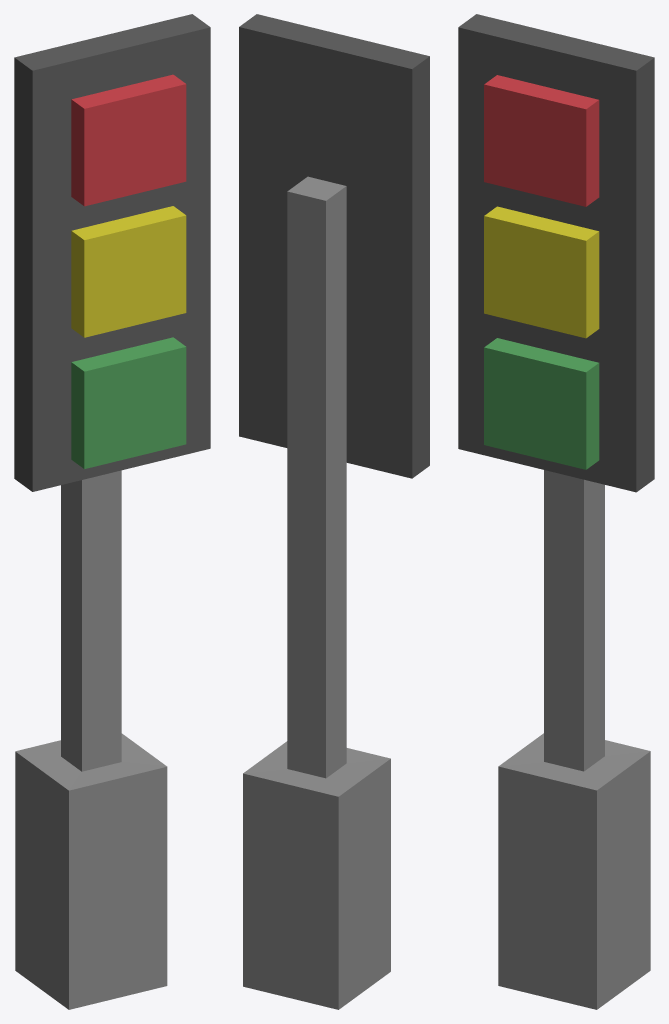
The model's file is Traffic_light_1.FBX.
3 views of the same model, side by side, from view 1: azimuth 30°, elevation 25°; view 2: azimuth 150°, elevation 25°; view 3: azimuth 330°, elevation 25° (orthographic). The views are drawn at different scales.
Visible parts, largest first — view 1: Traffic light 01; view 2: Traffic light 01; view 3: Traffic light 01.
Boxes of the visible parts, x1=… form: Traffic light 01: x1=14, y1=14, x2=210, y2=1009; Traffic light 01: x1=239, y1=14, x2=429, y2=1009; Traffic light 01: x1=458, y1=14, x2=654, y2=1009.
Bounding box in the file's own units: 0.4666 × 2.38 × 0.3114.
1 material, 1 textured.
